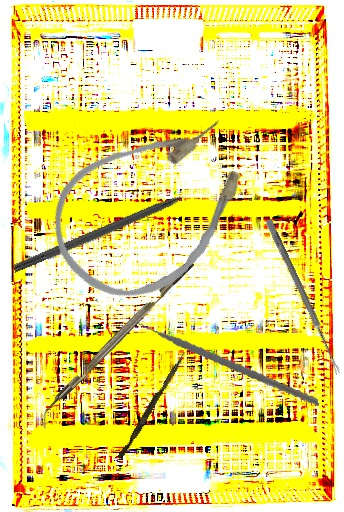Cannula: (27, 88, 281, 327)
Chopper: (32, 259, 203, 430), (133, 281, 319, 430)
Hook Surgical: (11, 182, 210, 276)
Pusher: (117, 349, 187, 461)
Surgical Spoon: (264, 218, 343, 376)
